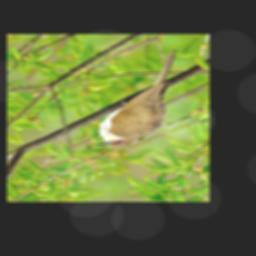Cuckoo: (95, 48, 179, 148)
